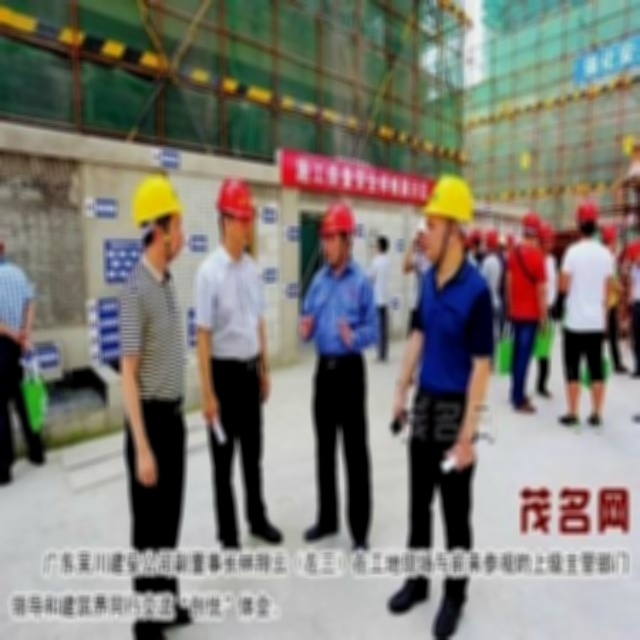Con_Casco: (134, 175, 182, 257), (217, 179, 253, 249), (321, 203, 358, 261)
